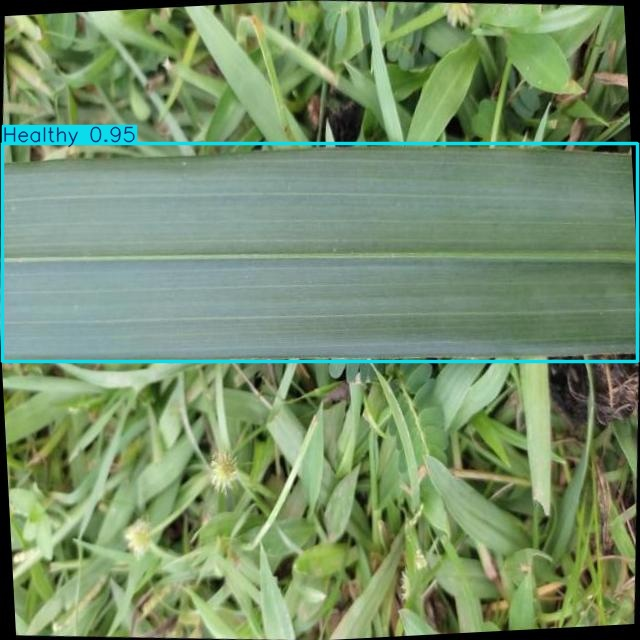Healthy: (2, 143, 637, 362)
